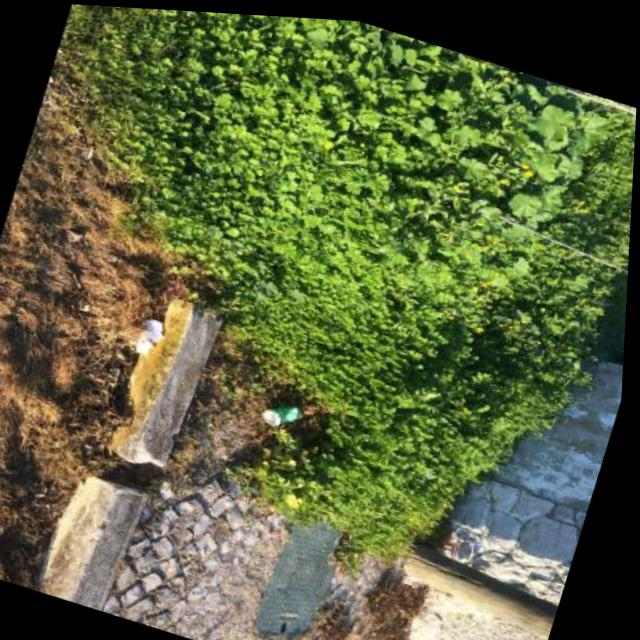metal: (259, 396, 304, 434)
